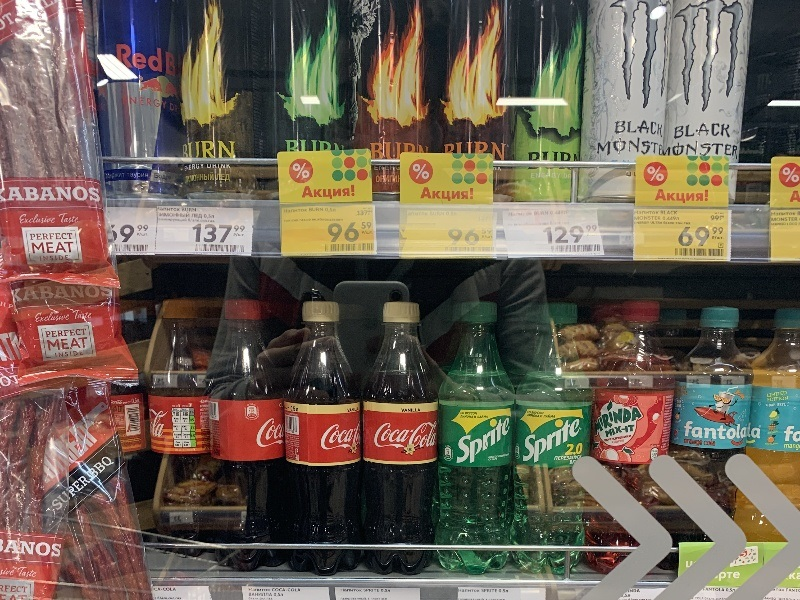lemonade: (265, 300, 368, 580), (431, 301, 525, 579), (355, 298, 445, 579), (207, 303, 299, 574)
